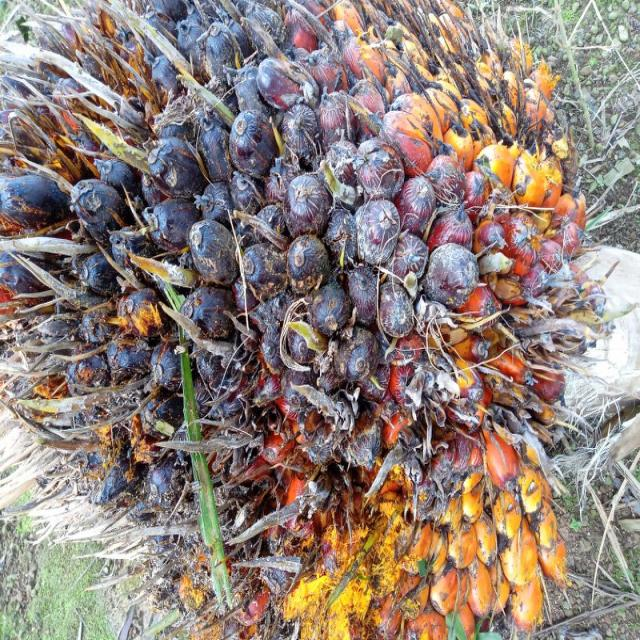fraksi 3: (6, 11, 614, 632)
